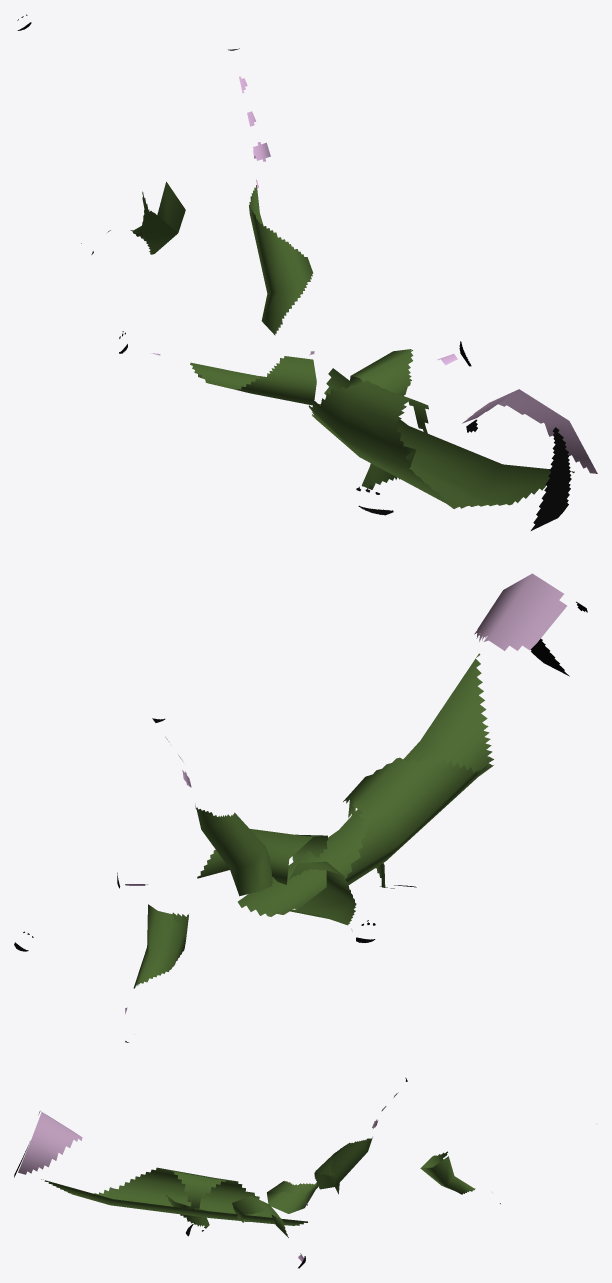
Rendered from Branch_2a.gltf.
The picture shows the model from 3 angles, top to bottom: view 1: azimuth 30°, elevation 25°; view 2: azimuth 150°, elevation 25°; view 3: azimuth 270°, elevation 25°; orthographic projection. The views are drawn at different scales.
Visible parts, largest first — view 1: Branch_2a; view 2: Branch_2a; view 3: Branch_2a.
Part boxes in pixels (box(x1,y1,x2,y2)): Branch_2a: box(17, 14, 597, 530); Branch_2a: box(14, 573, 587, 1042); Branch_2a: box(14, 1077, 500, 1268).
Size of the model in its own units: 43.43 by 41.62 by 127.
Materials: 1 (1 with a texture image).
